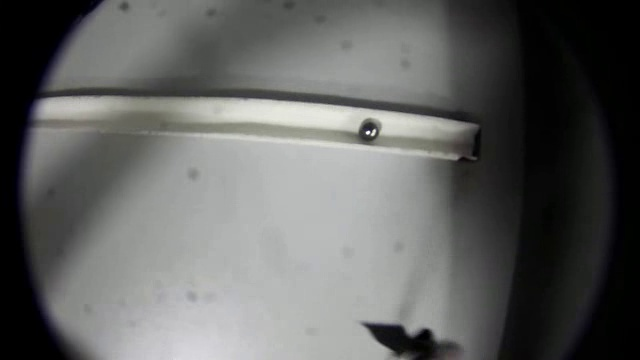gangzhu: (357, 118, 382, 143)
